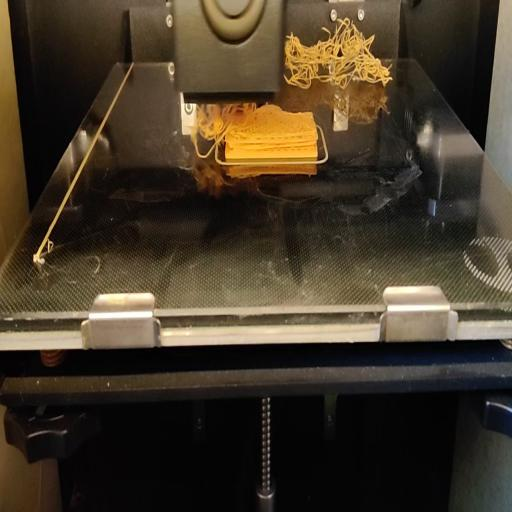spaghetti: (281, 19, 396, 93)
